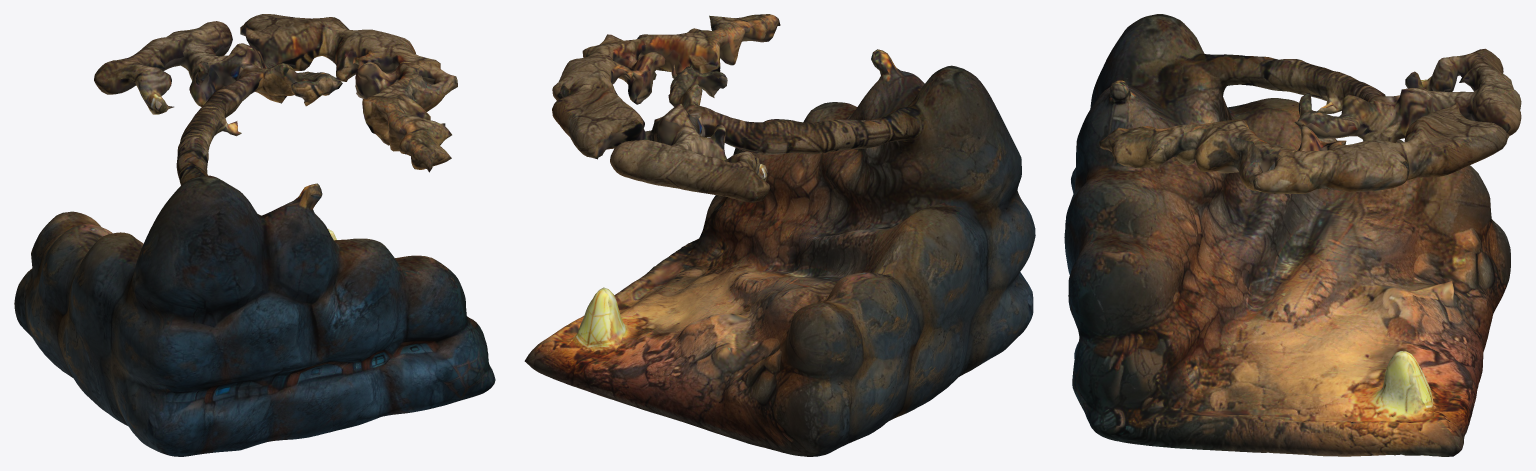
Rendered from void-environment.glb.
3 renders of one model, left to right at view 1: azimuth 30°, elevation 25°; view 2: azimuth 150°, elevation 25°; view 3: azimuth 270°, elevation 25°, orthographic. The views are drawn at different scales.
Size of the model in its own units: 1.2 by 0.9919 by 1.17.
1 material, 1 textured.
